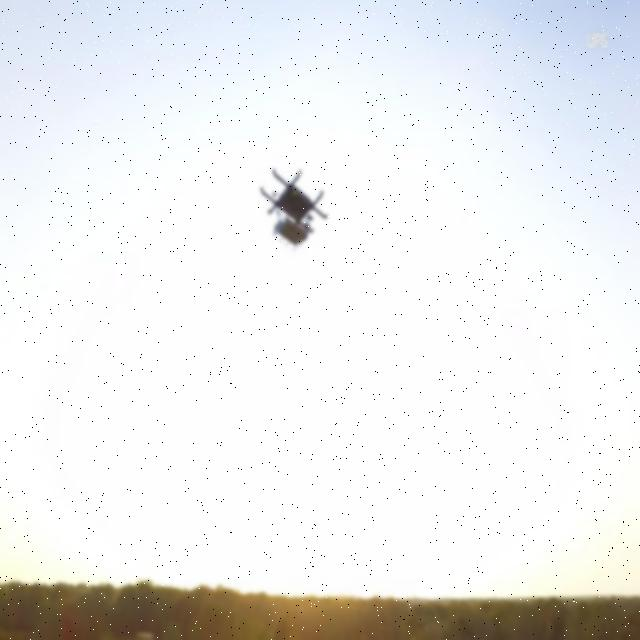UAV: (260, 169, 328, 252)
